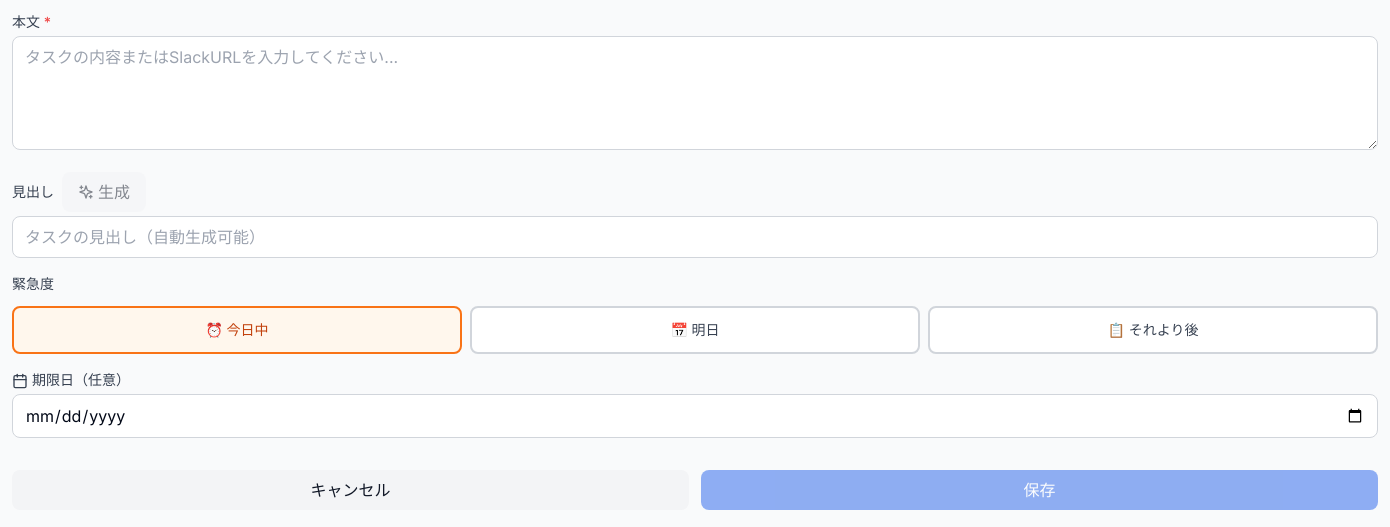
Test: TodoForm › 生成ボタンでタイトルが生成される
Type "本文あり" into the text box with placeholder "タスクの内容またはSlackURLを入力してください..." at (695, 93), box [12, 36, 1378, 150]
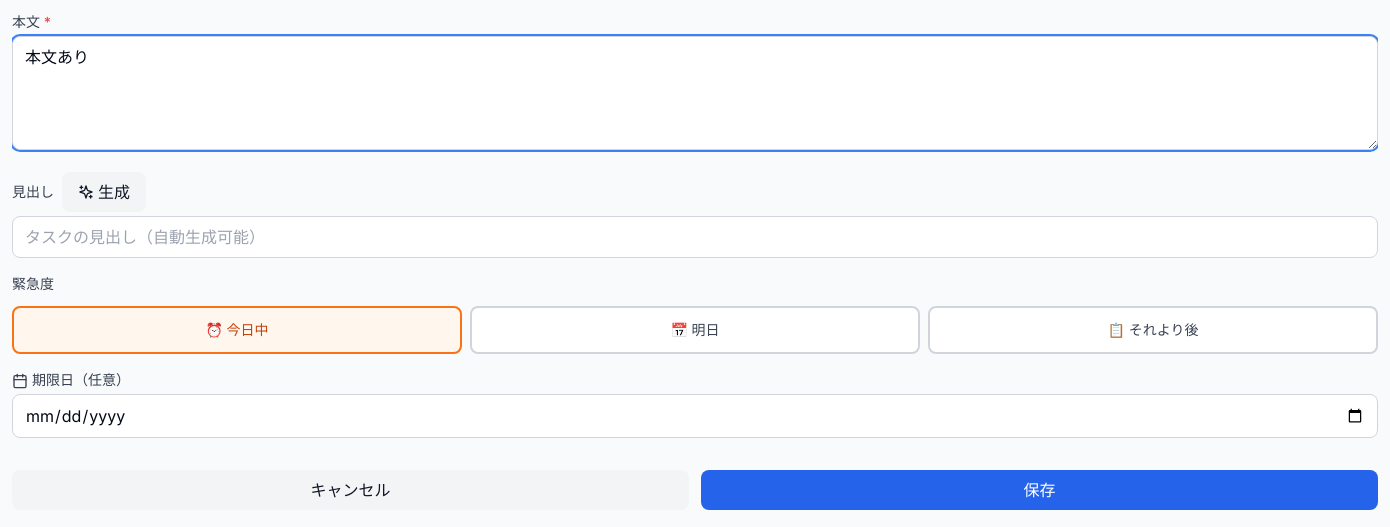
Click the button "生成" at (104, 192), box [62, 172, 146, 212]
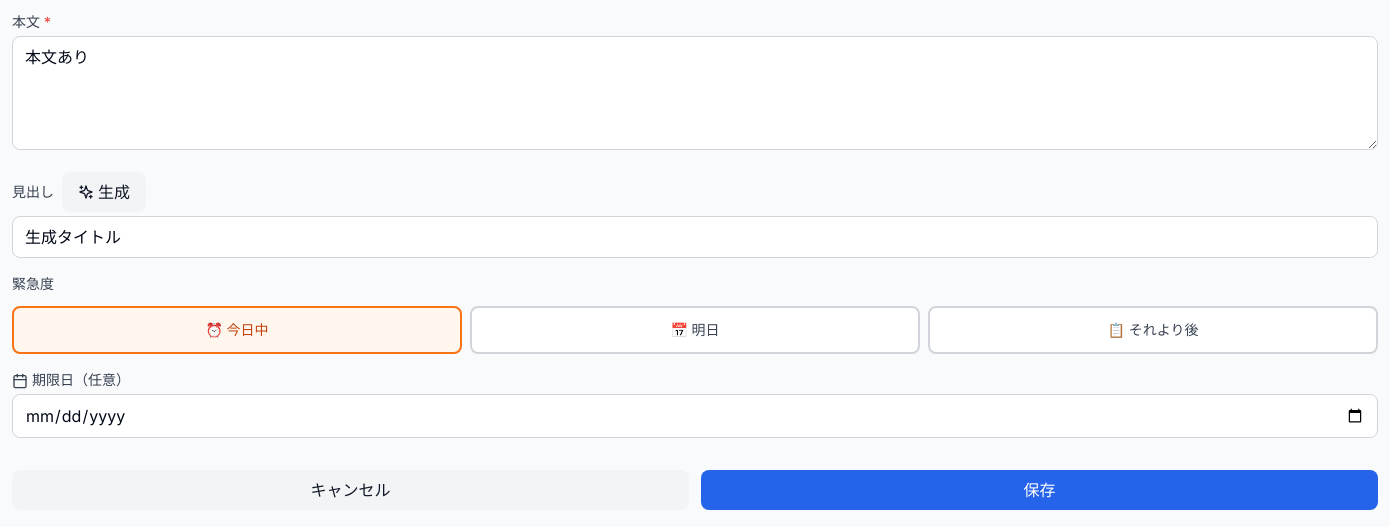
Expected: the field with placeholder "タスクの見出し（自動生成可能）" holds "生成タイトル", [12, 216, 1378, 258]
